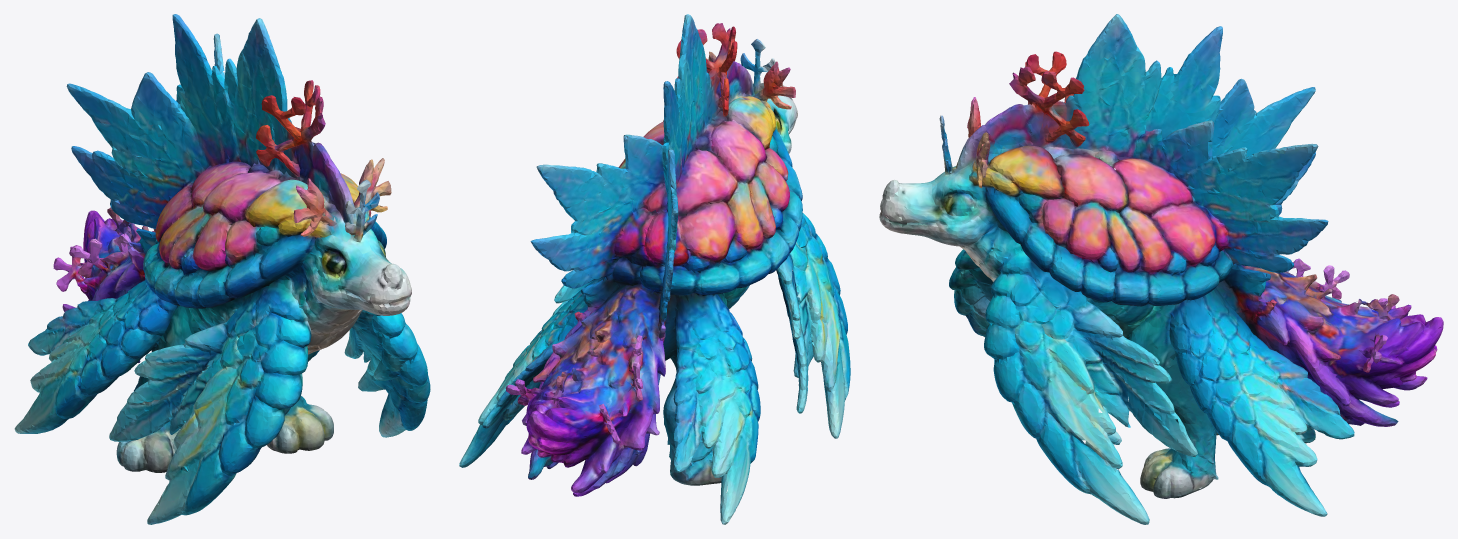
Rendered from ocearion.glb.
3 renders of one model, left to right at view 1: azimuth 30°, elevation 25°; view 2: azimuth 150°, elevation 25°; view 3: azimuth 270°, elevation 25°, orthographic. The views are drawn at different scales.
Visible parts, largest first — view 1: plush; view 2: plush; view 3: plush.
Boxes of the visible parts, left/top/right/bottom form: plush: left=14, top=14, right=430, bottom=524; plush: left=459, top=14, right=850, bottom=524; plush: left=879, top=14, right=1443, bottom=524.
Bounding box in the file's own units: 0.5577 × 0.8519 × 0.9795.
1 material, 1 textured.
